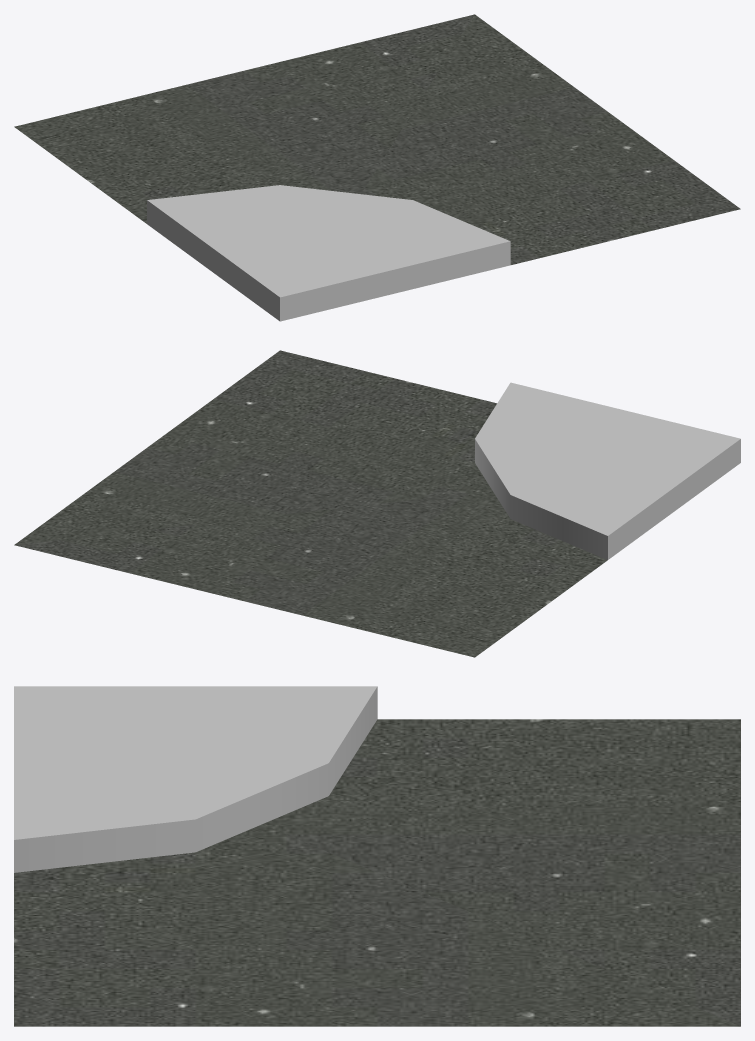
File: roadAsphalt_cornerOuter.dae
3 views of the same model, one above another, from view 1: azimuth 30°, elevation 25°; view 2: azimuth 150°, elevation 25°; view 3: azimuth 270°, elevation 25° (orthographic). The views are drawn at different scales.
Visible parts, largest first — view 1: roadAsphalt_cornerOuter; view 2: roadAsphalt_cornerOuter; view 3: roadAsphalt_cornerOuter.
Part boxes in pixels (left/top/right/bottom): roadAsphalt_cornerOuter: left=14, top=14, right=740, bottom=321; roadAsphalt_cornerOuter: left=14, top=350, right=740, bottom=657; roadAsphalt_cornerOuter: left=14, top=686, right=740, bottom=1026.
Size of the model in its own units: 1 by 0.05 by 1.
